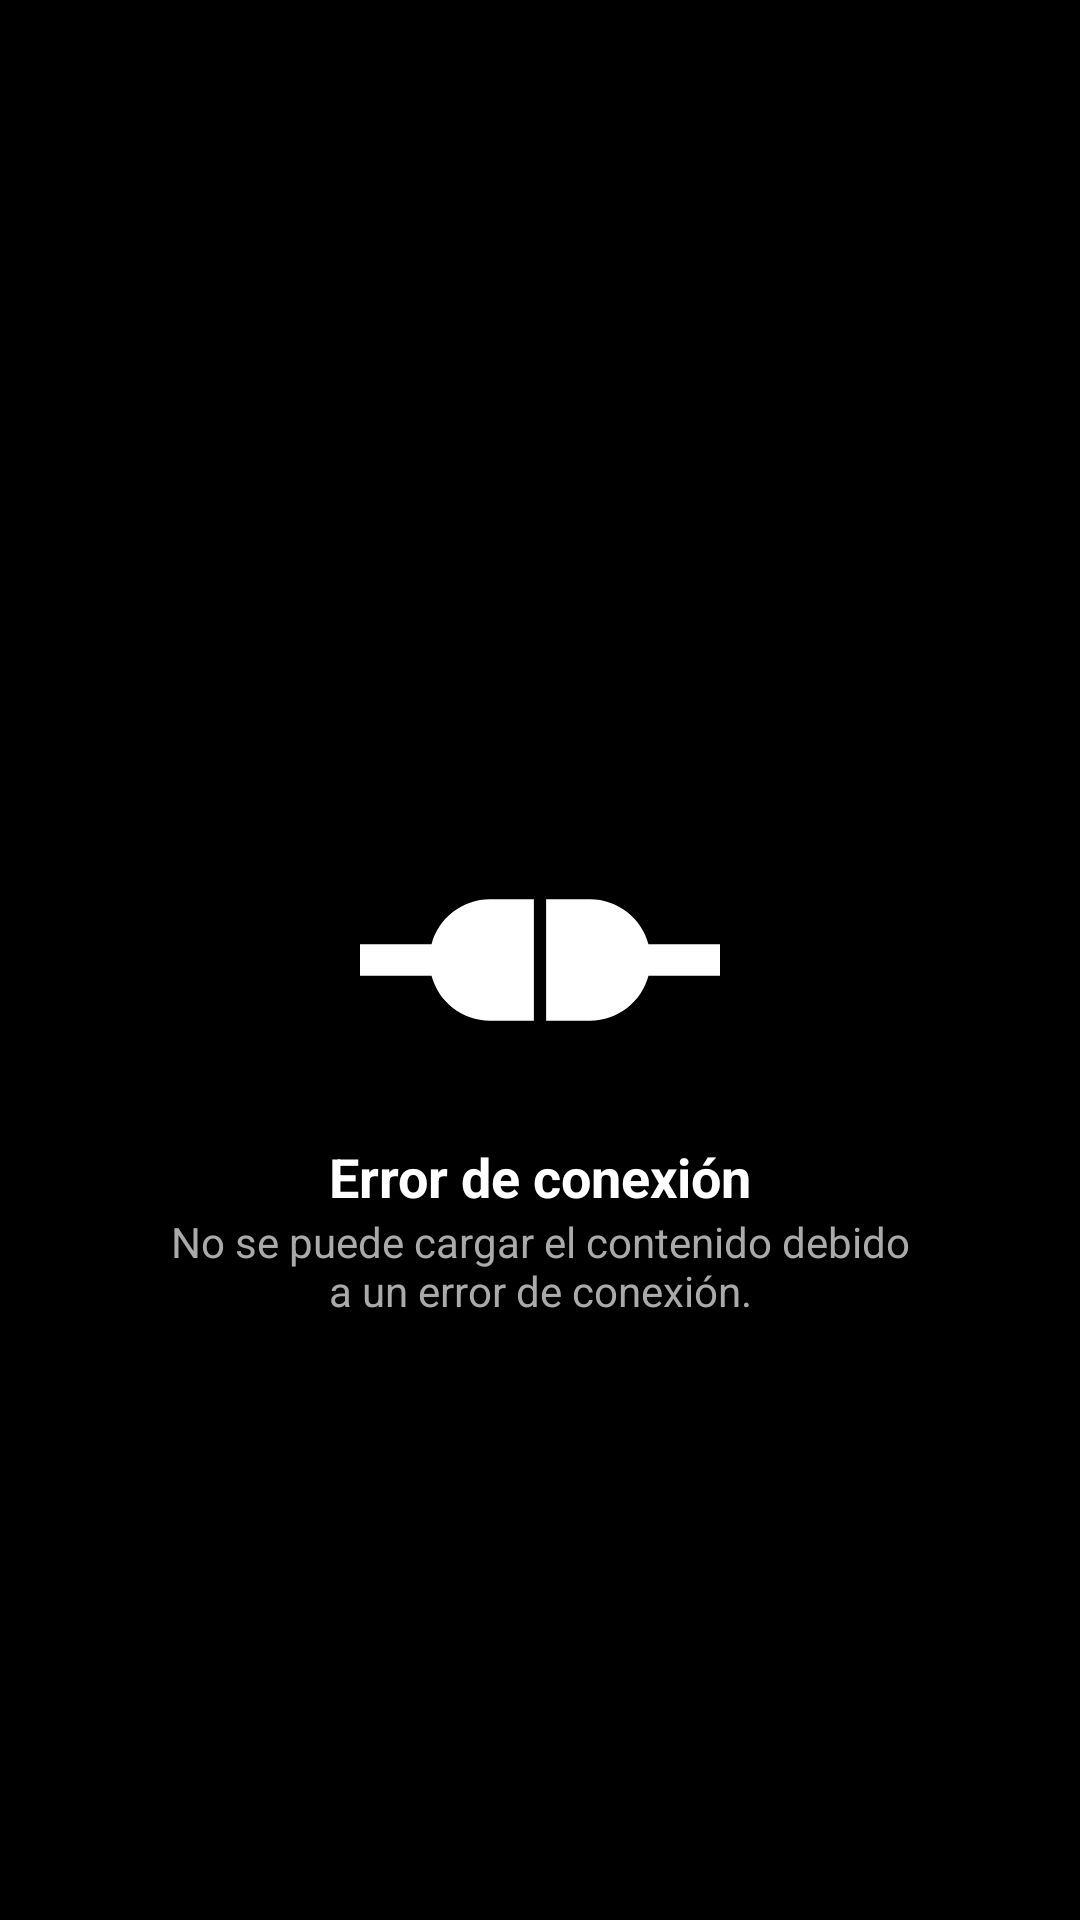

Where to tap for icons on this 1080w x 1920h app screen, as point (x, y):
connection free: point (540, 960)
